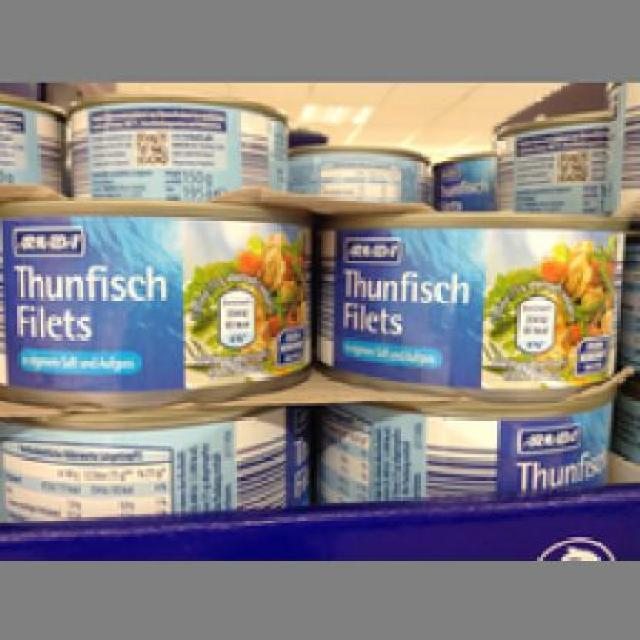Fish: (0, 197, 320, 406), (314, 212, 626, 398), (0, 410, 312, 518), (314, 400, 612, 503), (56, 94, 290, 197), (282, 137, 438, 200)
